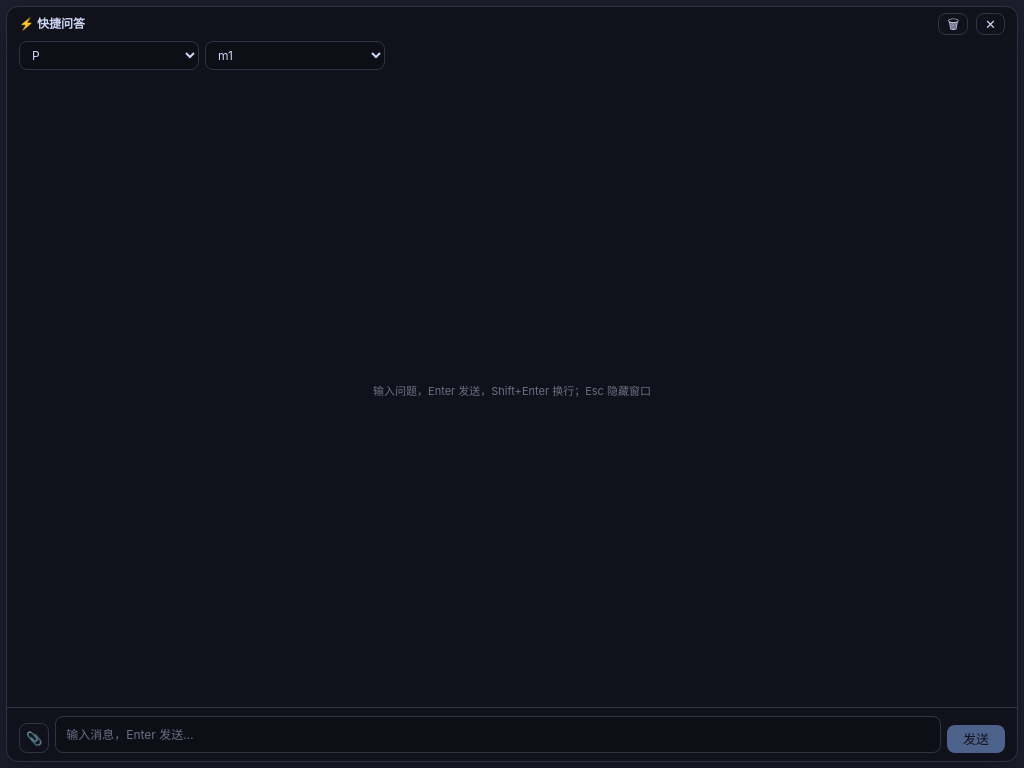
划词／快捷浮窗：裸 promise 留下的空气泡现在有出口 › 反向对照：成功返回 {ok:true} ⇒ 仍在生成中（出现「停止」，没有错误气泡）
In the text box with placeholder "输入消息，Enter 发送…": [498, 734] box [55,716,941,753], type "你好"
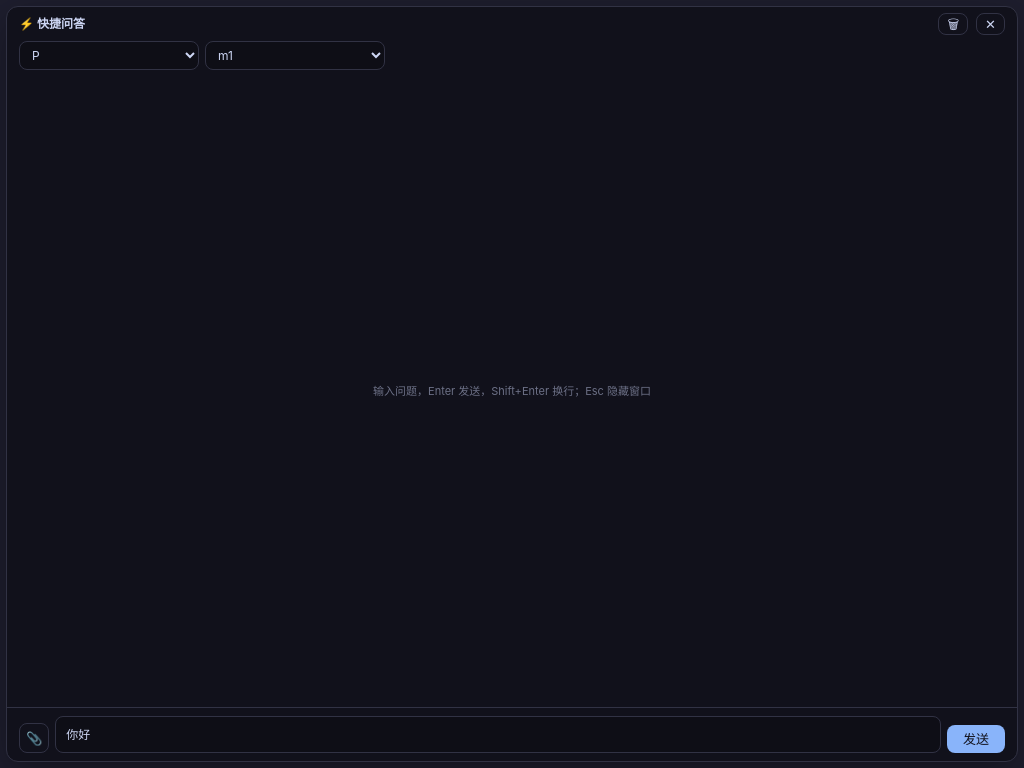
Click the button "发送": [976, 739] box [947,725,1005,753]
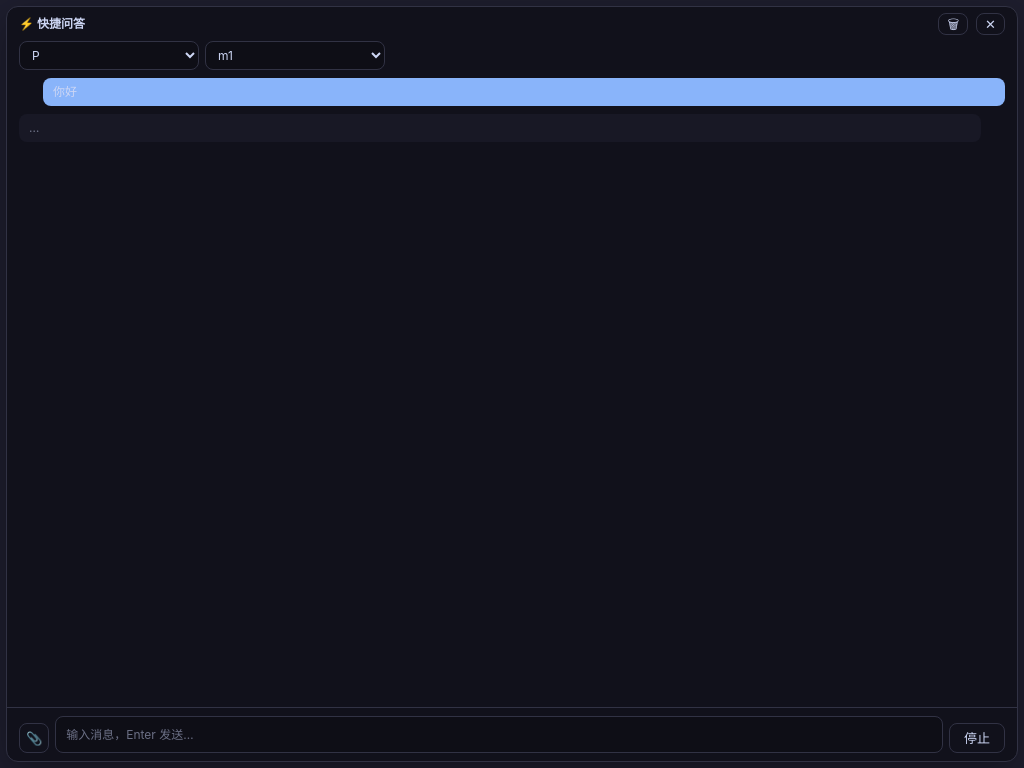
Expected: the button "停止" is shown, [949,723,1005,753]
